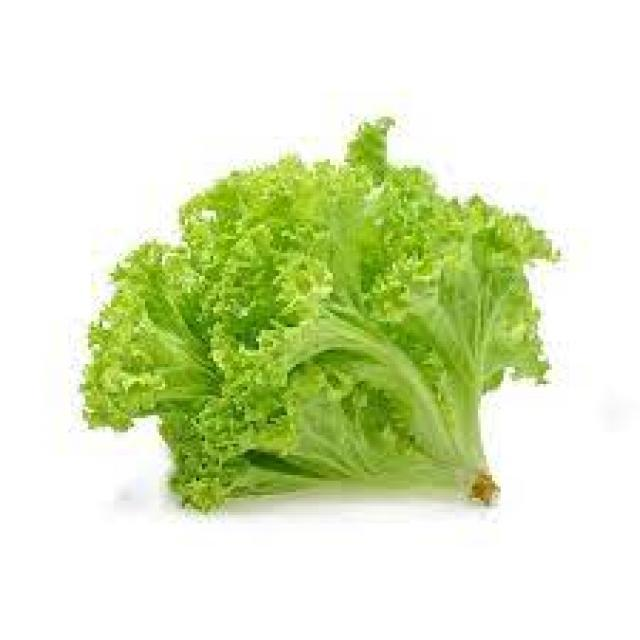Lettuce: (87, 115, 560, 517)
